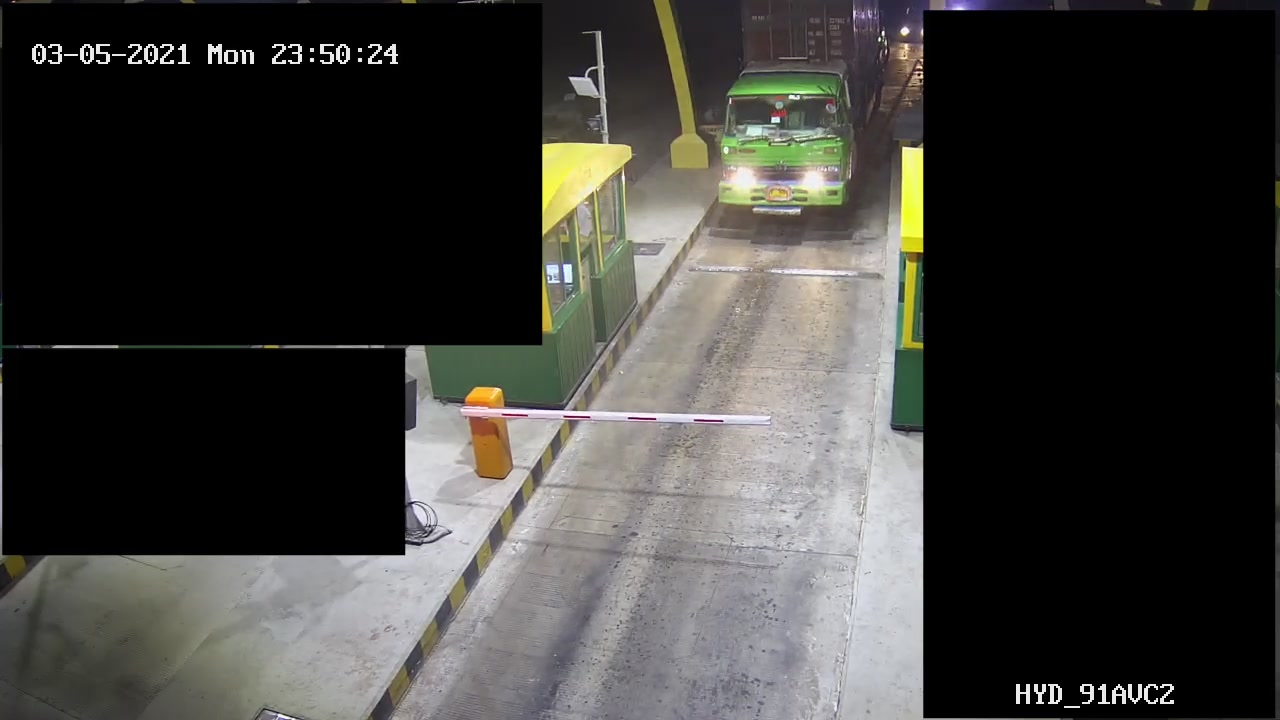F6: (709, 1, 884, 224)
